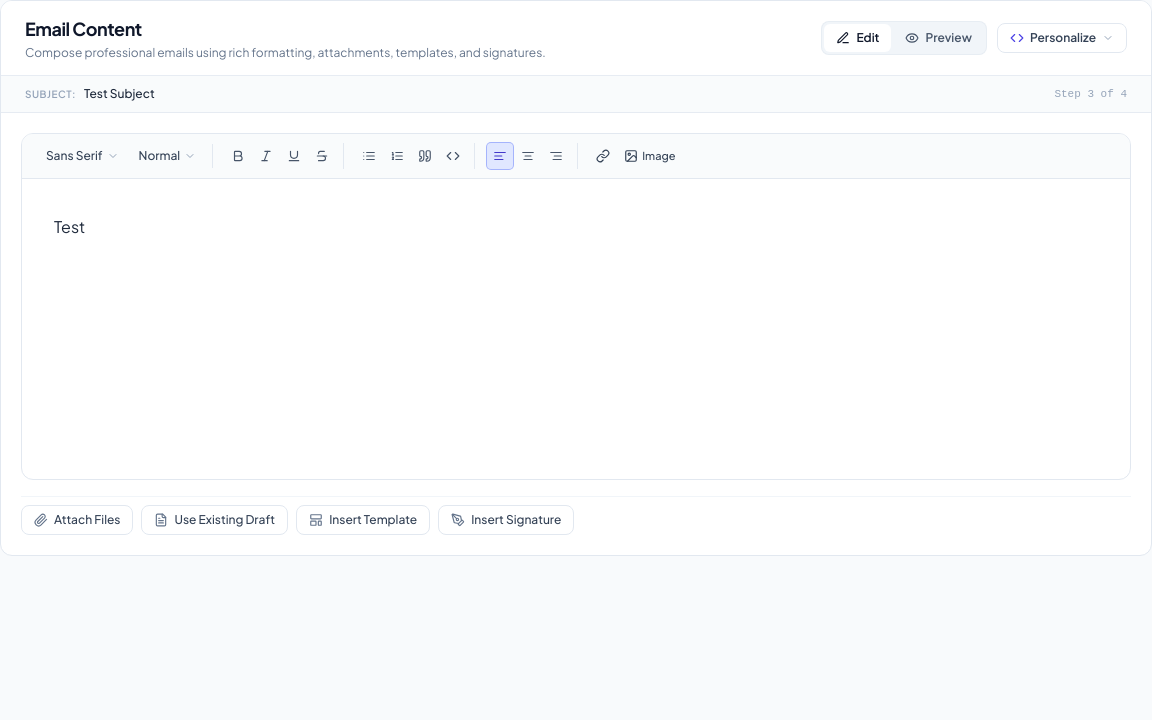
it: C12.2 Create Campaign Wizard Components › 6. CampaignContentStep › strictly provides ONLY {{first_name}} merge tag in personalize dropdown
What coordinates should you click on to do the following:
click the button "Personalize"
I would click on:
 (1062, 38)
Its box is [997, 23, 1127, 53].
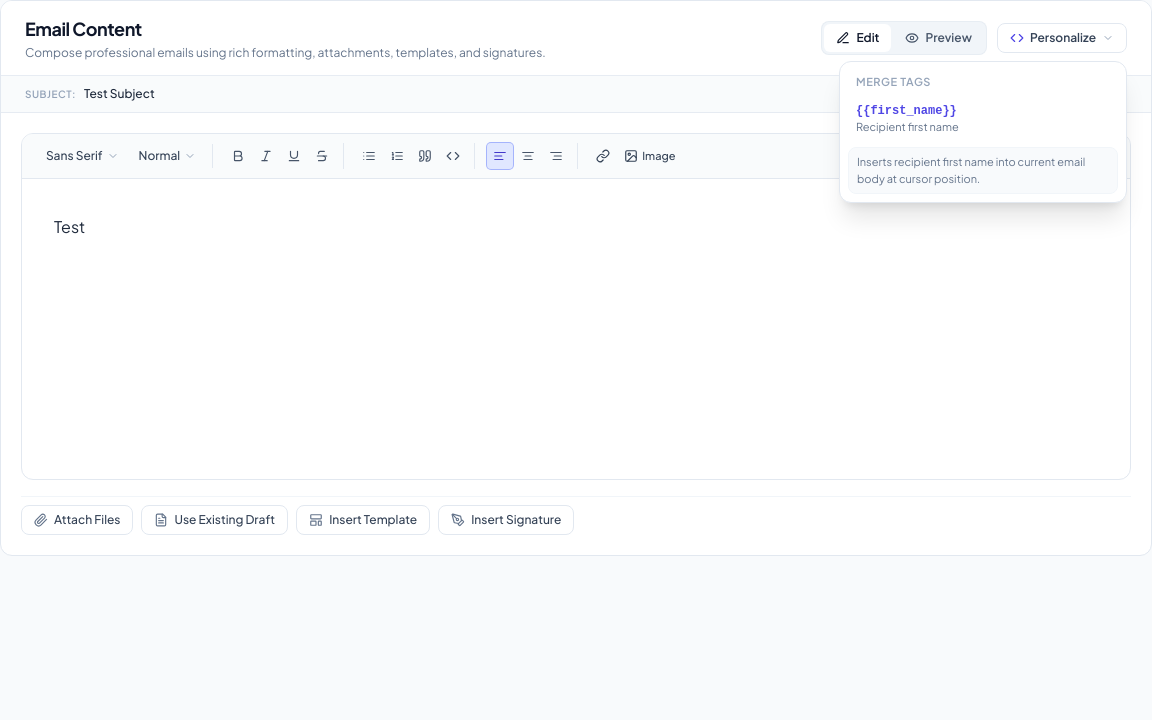
Expected: the text "{{first_name}}" is shown, [856, 102, 959, 118]
Expected: the text "Recipient first name" is shown, [856, 118, 959, 135]
